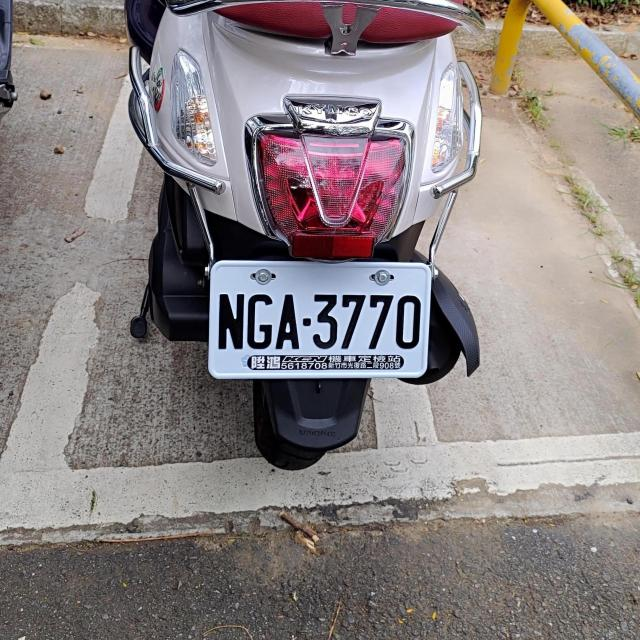W: (208, 258, 428, 381)
